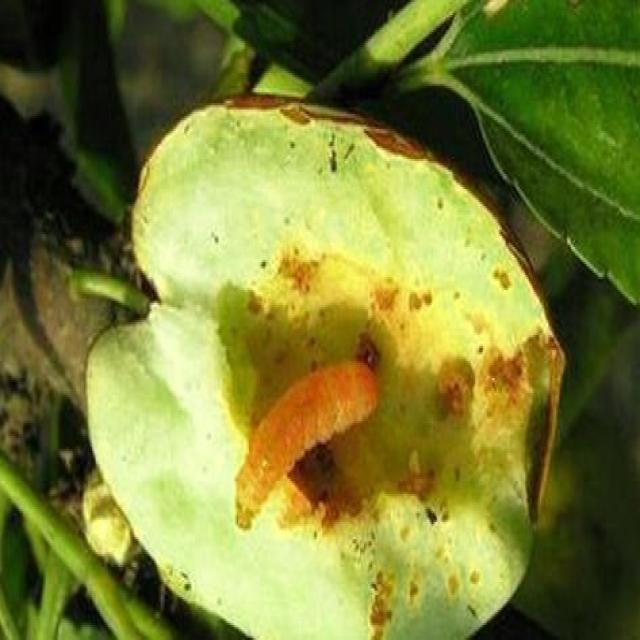peach borer: (234, 342, 374, 533)
